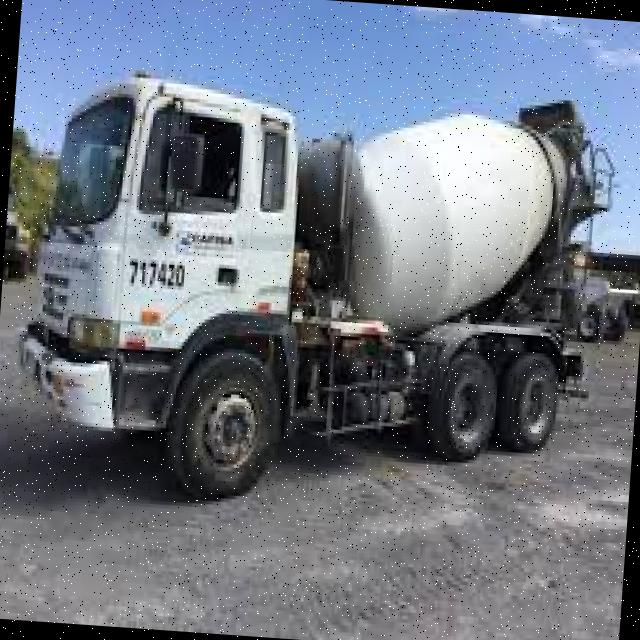Mixer Truck: (4, 56, 623, 530)
